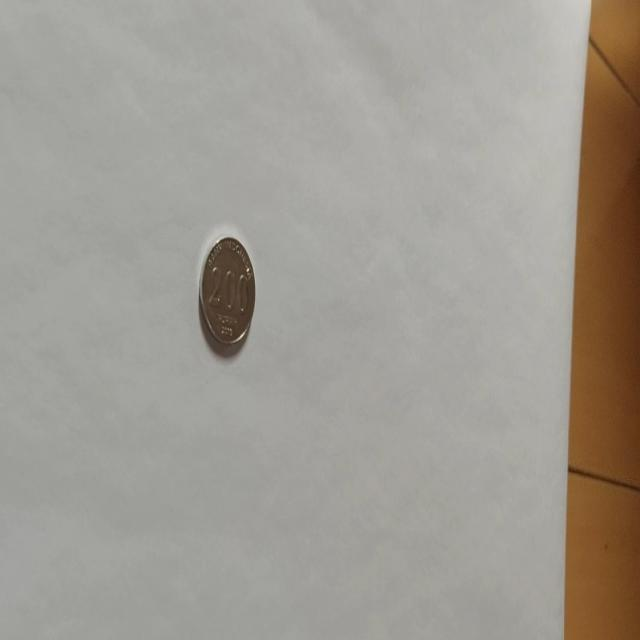dua ratus rupiah: (198, 234, 256, 346)
